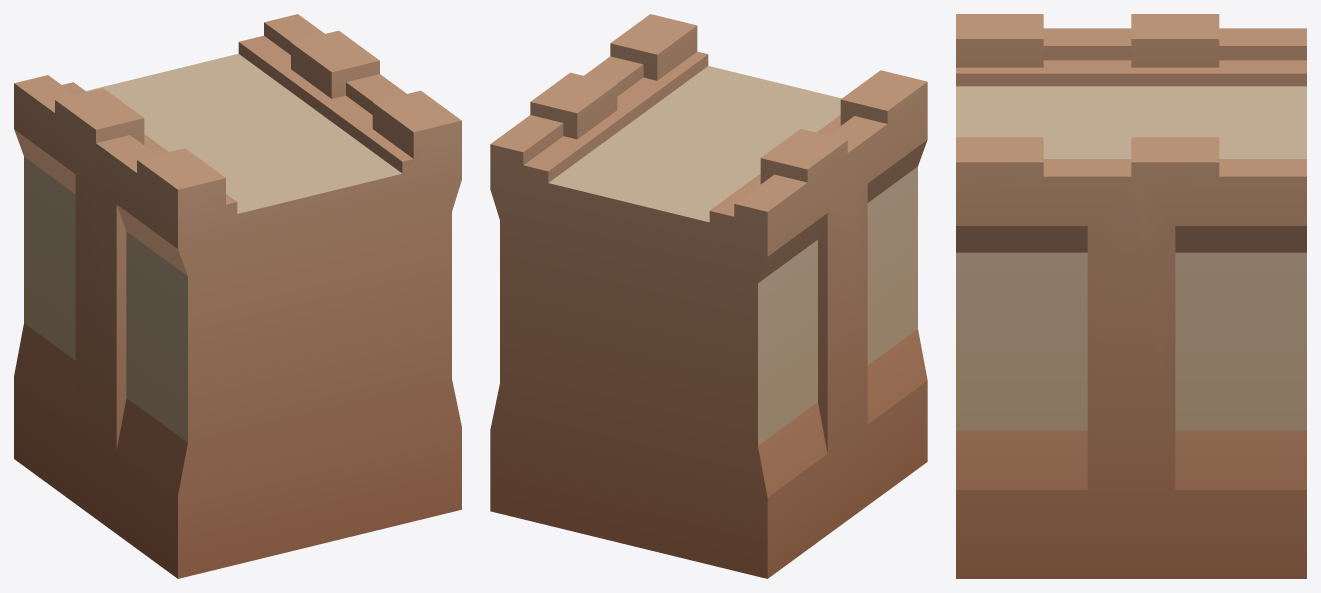
File: wall-pillar.glb
3 views of the same model, side by side, from view 1: azimuth 30°, elevation 25°; view 2: azimuth 150°, elevation 25°; view 3: azimuth 270°, elevation 25° (orthographic). The views are drawn at different scales.
Parts seen in each view (by area): view 1: wall-pillar; view 2: wall-pillar; view 3: wall-pillar.
Part boxes in pixels (x1,y1,x2,y2): wall-pillar: (14,14,461,578); wall-pillar: (490,14,927,578); wall-pillar: (956,14,1306,578).
Bounding box in the file's own units: 1 × 1.31 × 1.
